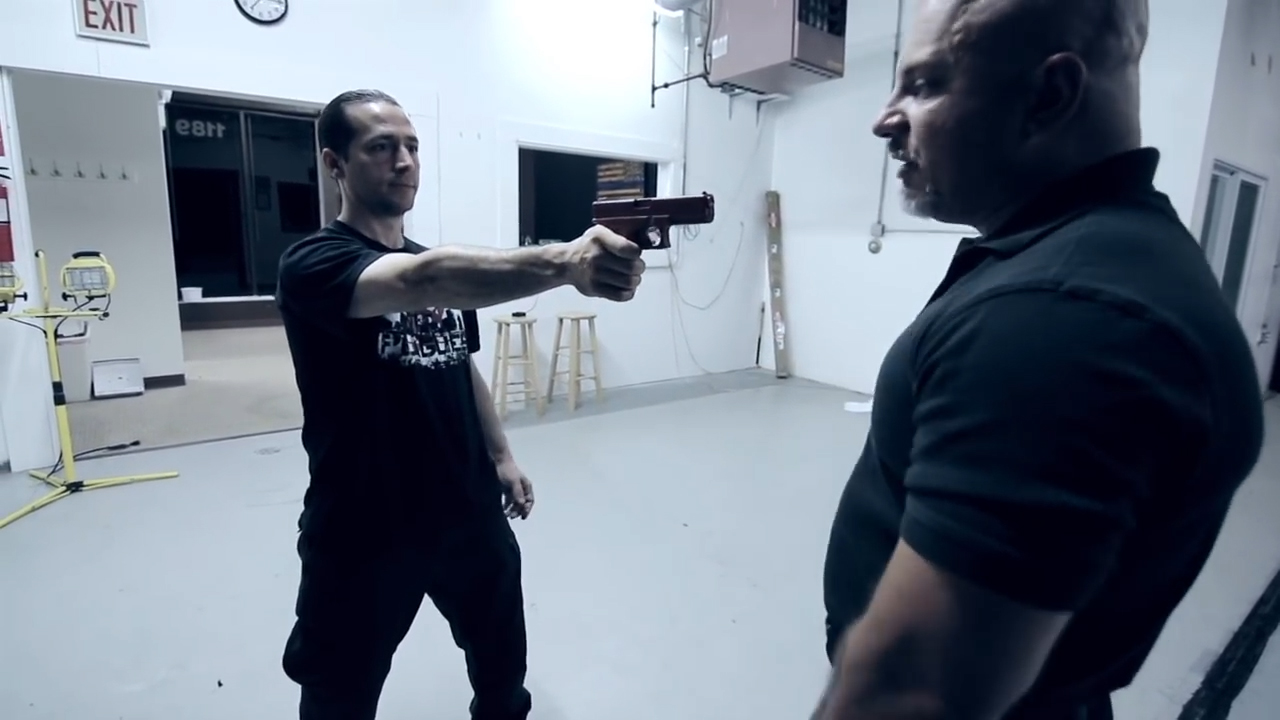pistol: (591, 191, 717, 254)
